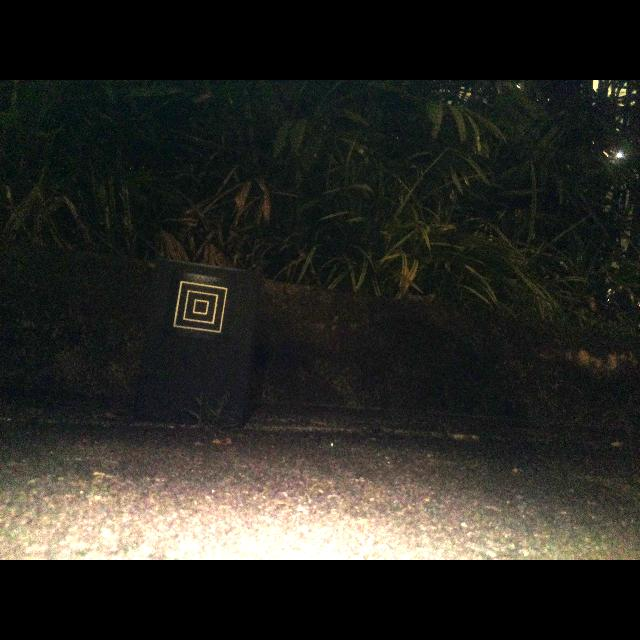BULLSEYE: (174, 280, 227, 332)
